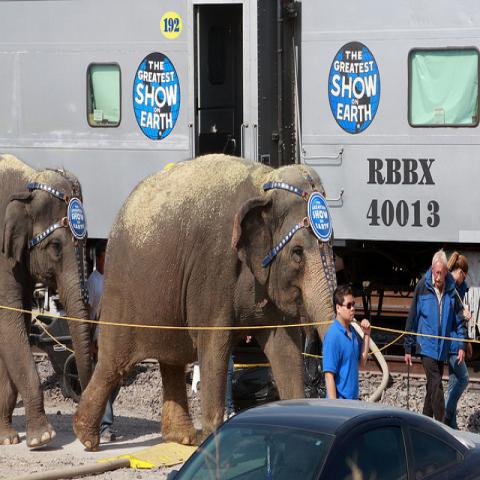car: (176, 396, 480, 474)
